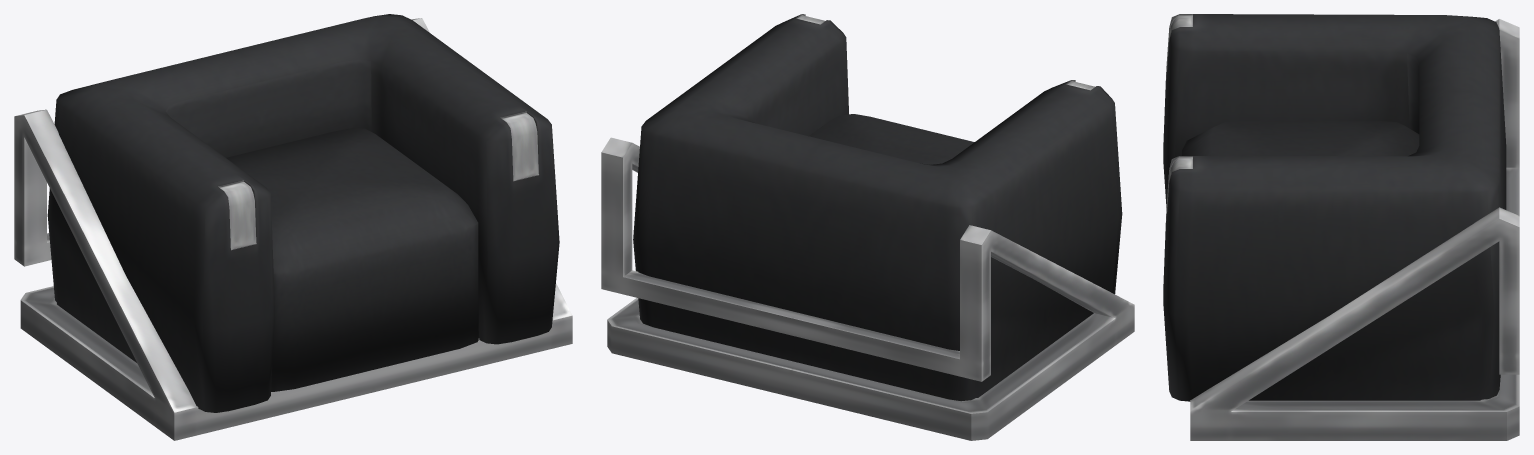
Rendered from MidcenturyChair_HD.fbx.
3 views of the same model, side by side, from view 1: azimuth 30°, elevation 25°; view 2: azimuth 150°, elevation 25°; view 3: azimuth 270°, elevation 25° (orthographic). The views are drawn at different scales.
Visible parts, largest first — view 1: MidcenturyChair; view 2: MidcenturyChair; view 3: MidcenturyChair.
Boxes of the visible parts, x1=… form: MidcenturyChair: x1=14, y1=14, x2=572, y2=440; MidcenturyChair: x1=601, y1=14, x2=1134, y2=440; MidcenturyChair: x1=1163, y1=14, x2=1519, y2=440.
Bounding box in the file's own units: 0.9828 × 0.5719 × 0.7404.
